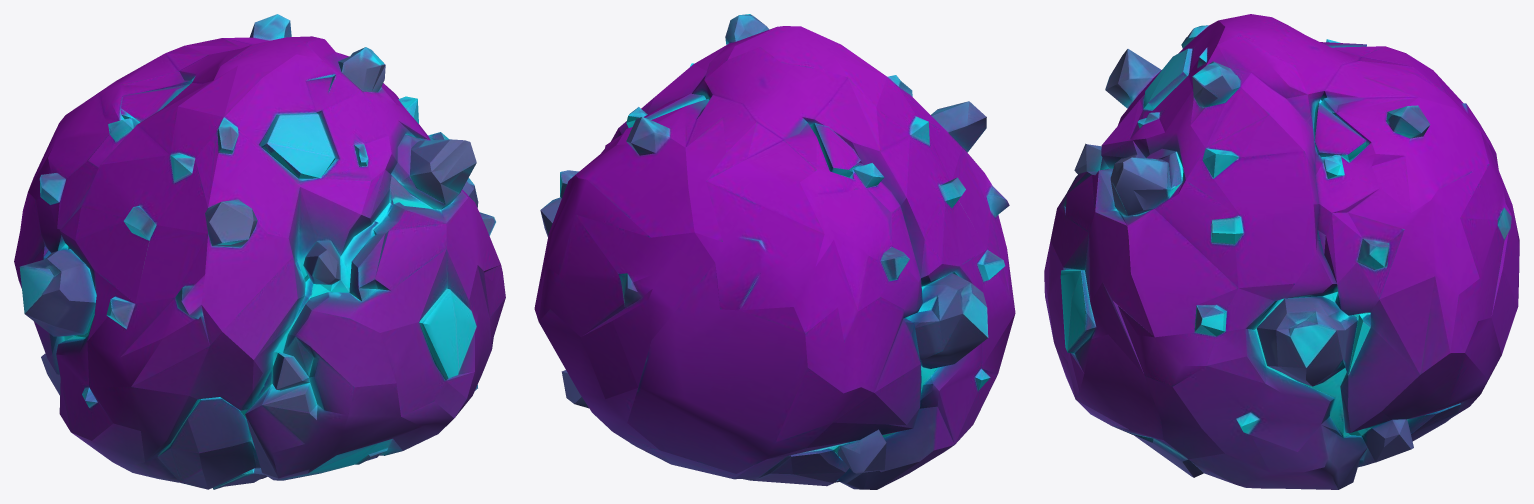
Rendered from meteor.glb.
3 views of the same model, side by side, from view 1: azimuth 30°, elevation 25°; view 2: azimuth 150°, elevation 25°; view 3: azimuth 270°, elevation 25° (orthographic). The views are drawn at different scales.
Bounding box in the file's own units: 1.9 × 1.65 × 1.72.
Materials: 1 (1 with a texture image).
